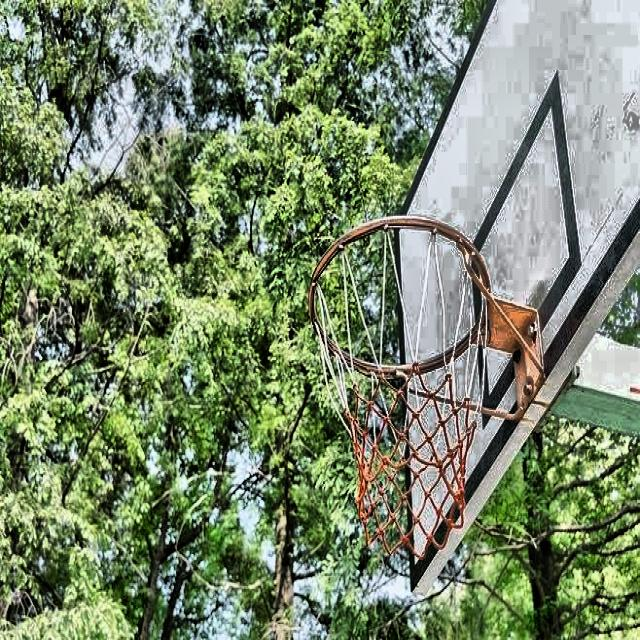rim: (308, 214, 494, 560)
